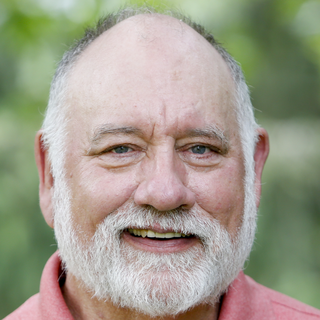eye: (94, 140, 145, 164), (176, 139, 224, 164)
